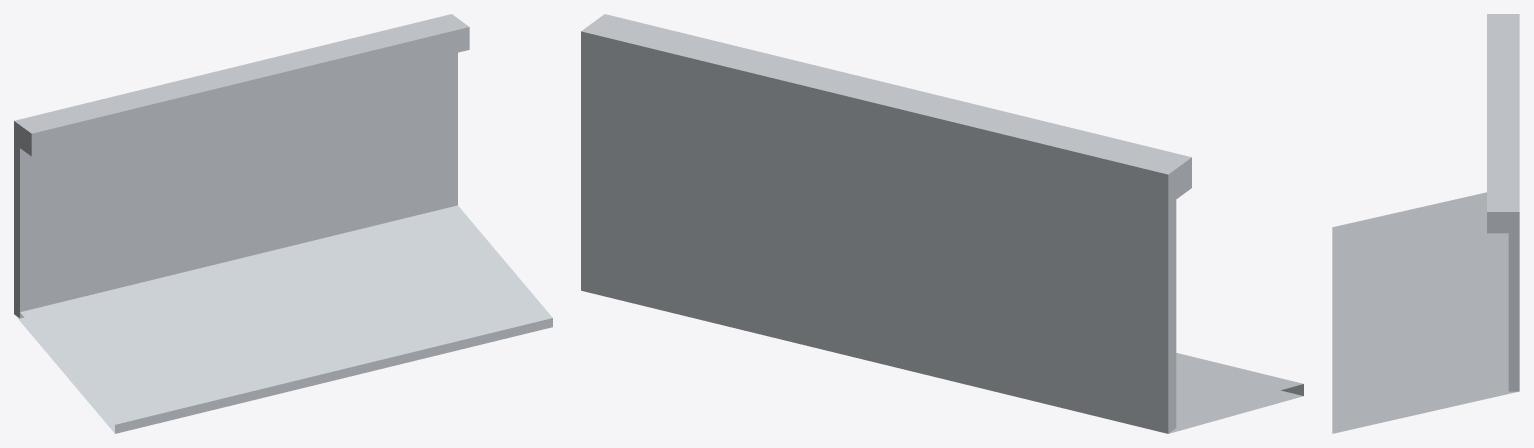
File: telhado_rufo_i25_0_5m.glb
3 views of the same model, side by side, from view 1: azimuth 30°, elevation 25°; view 2: azimuth 150°, elevation 25°; view 3: azimuth 270°, elevation 25° (orthographic). The views are drawn at different scales.
Visible parts, largest first — view 1: telhado_rufo_i25_0_5m; view 2: telhado_rufo_i25_0_5m; view 3: telhado_rufo_i25_0_5m.
Boxes of the visible parts, <box> form: telhado_rufo_i25_0_5m: <box>14,14,552,433</box>; telhado_rufo_i25_0_5m: <box>581,14,1303,433</box>; telhado_rufo_i25_0_5m: <box>1332,14,1519,433</box>.
Size of the model in its own units: 0.5 by 0.261 by 0.2.
1 material, 1 textured.
